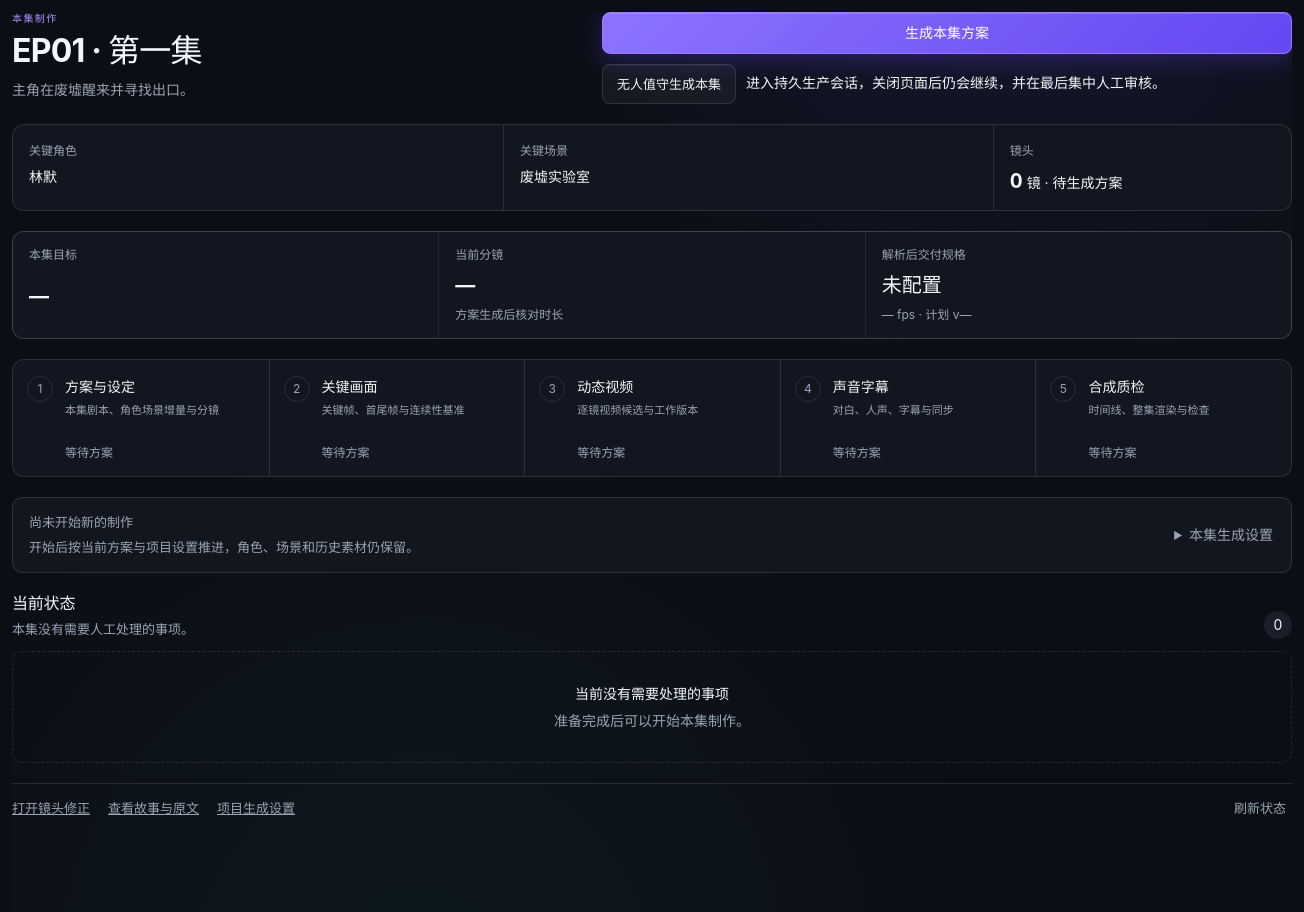
Test: EpisodeProductionWorkspace › prepares a zero-shot episode directly instead of sending the user back to story
Click the button "生成本集方案" at (947, 33), box [602,12,1292,54]
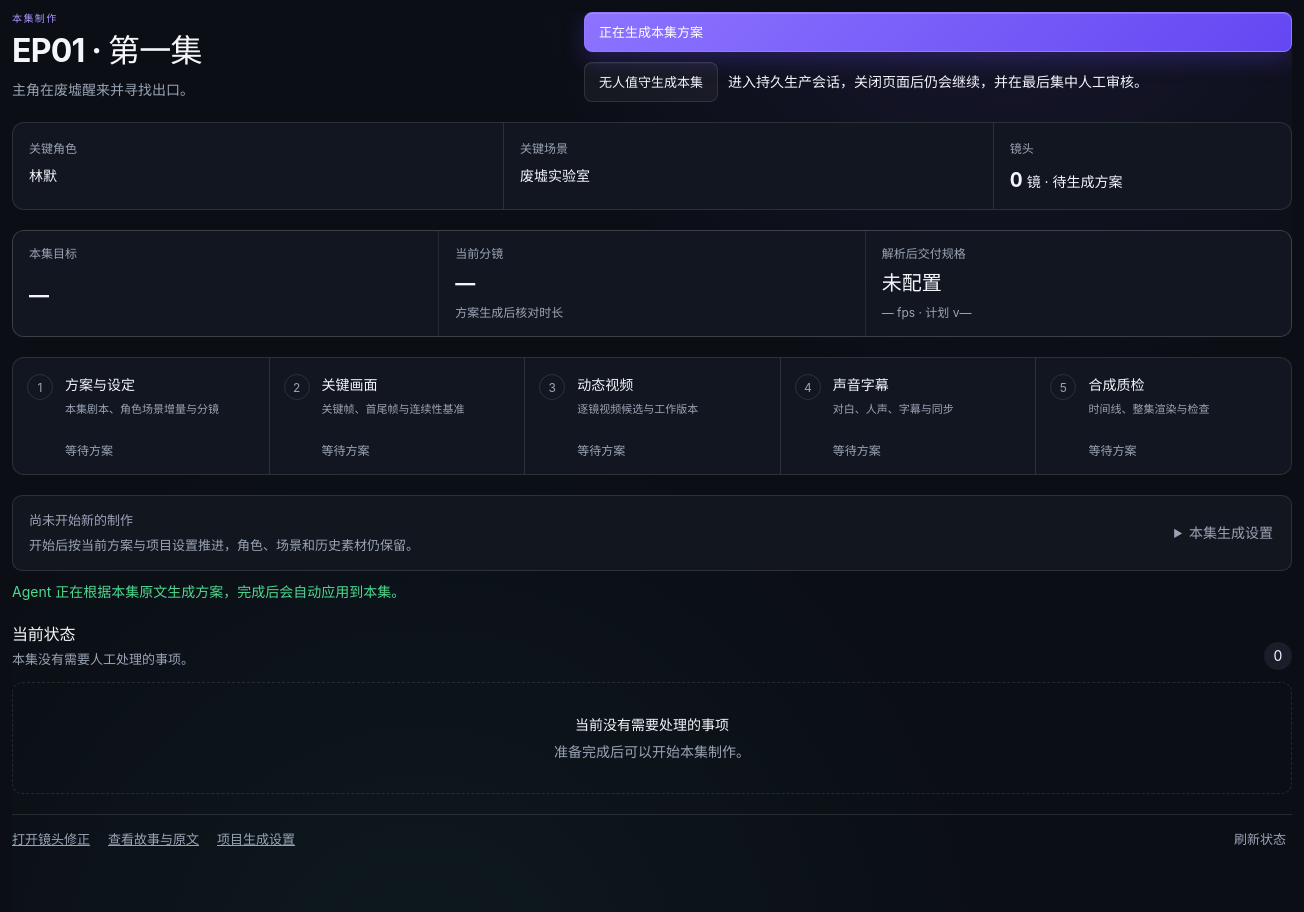
Check: the text "Agent 正在根据本集原文生成方案，完成后会自动应用到本集。" is shown, box [12,583,405,600]
Check: the link "正在生成本集方案" is shown, box [584,12,1292,52]
